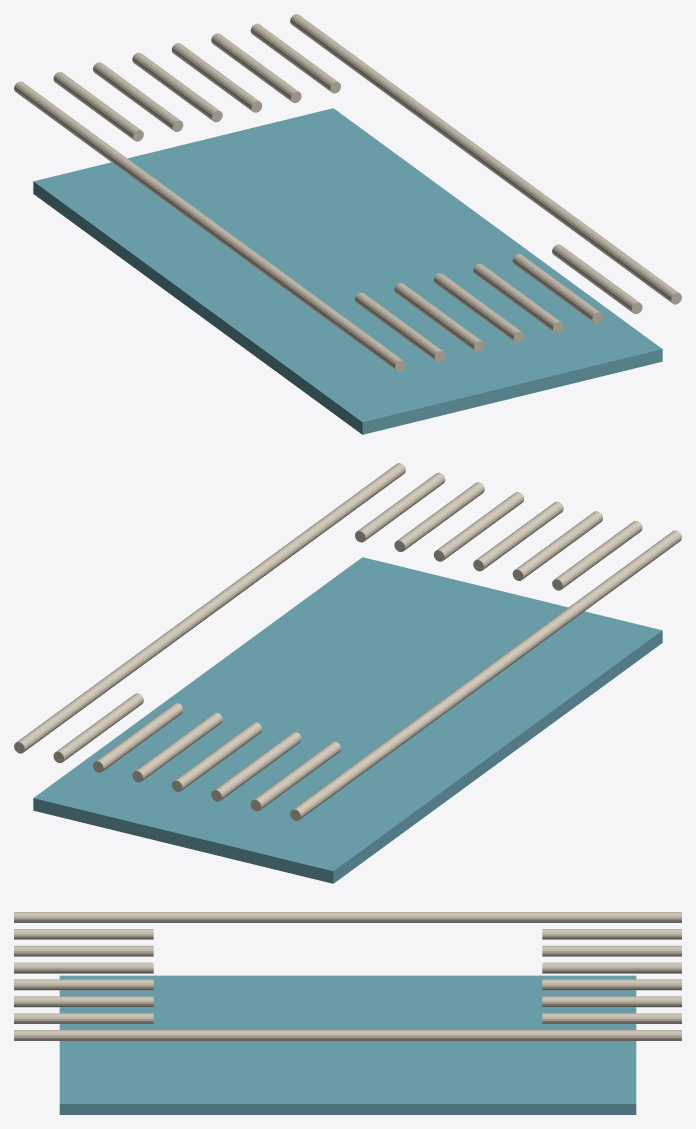
File: parthenon_columns_8x17.glb
3 renders of one model, top to bottom at view 1: azimuth 30°, elevation 25°; view 2: azimuth 150°, elevation 25°; view 3: azimuth 270°, elevation 25°, orthographic. The views are drawn at different scales.
Visible parts, largest first — view 1: stylobate, column_41, column_38, column_37, column_42, column_45, column_35, column_43, column_44, column_34, column_36, column_40 (+13 smaller); view 2: stylobate, column_40, column_39, column_36, column_43, column_44, column_34, column_42, column_45, column_35, column_37, column_41 (+12 smaller); view 3: stylobate, column_36, column_37, column_38, column_39, column_40, column_41, column_42, column_43, column_34, column_35, column_44 (+35 smaller).
Part boxes in pixels (left/top/right/bottom): stylobate: left=33, top=108, right=662, bottom=434; column_41: left=473, top=263, right=563, bottom=333; column_38: left=132, top=52, right=222, bottom=122; column_37: left=394, top=283, right=484, bottom=352; column_42: left=211, top=33, right=301, bottom=102; column_45: left=552, top=244, right=642, bottom=314; column_35: left=355, top=292, right=445, bottom=362; column_43: left=512, top=254, right=602, bottom=323; column_44: left=250, top=23, right=340, bottom=93; column_34: left=53, top=72, right=143, bottom=141; column_36: left=93, top=62, right=183, bottom=131; column_40: left=172, top=43, right=262, bottom=112; stylobate: left=33, top=557, right=662, bottom=883; column_40: left=132, top=712, right=222, bottom=782; column_39: left=473, top=501, right=563, bottom=571; column_36: left=211, top=732, right=301, bottom=801; column_43: left=394, top=482, right=484, bottom=551; column_44: left=53, top=693, right=143, bottom=763; column_34: left=250, top=741, right=340, bottom=811; column_42: left=93, top=703, right=183, bottom=772; column_45: left=355, top=472, right=445, bottom=542; column_35: left=552, top=521, right=642, bottom=590; column_37: left=512, top=511, right=602, bottom=580; column_41: left=433, top=492, right=523, bottom=561; stylobate: left=59, top=975, right=636, bottom=1114; column_36: left=542, top=945, right=681, bottom=956; column_37: left=14, top=945, right=153, bottom=956; column_38: left=542, top=962, right=681, bottom=973; column_39: left=14, top=962, right=153, bottom=973; column_40: left=542, top=979, right=681, bottom=990; column_41: left=14, top=979, right=153, bottom=990; column_42: left=542, top=996, right=681, bottom=1007; column_43: left=14, top=996, right=153, bottom=1007; column_34: left=542, top=929, right=681, bottom=939; column_35: left=14, top=929, right=153, bottom=939; column_44: left=542, top=1013, right=681, bottom=1023.
Bounding box in the file's own units: 10 × 2.88 × 22.
